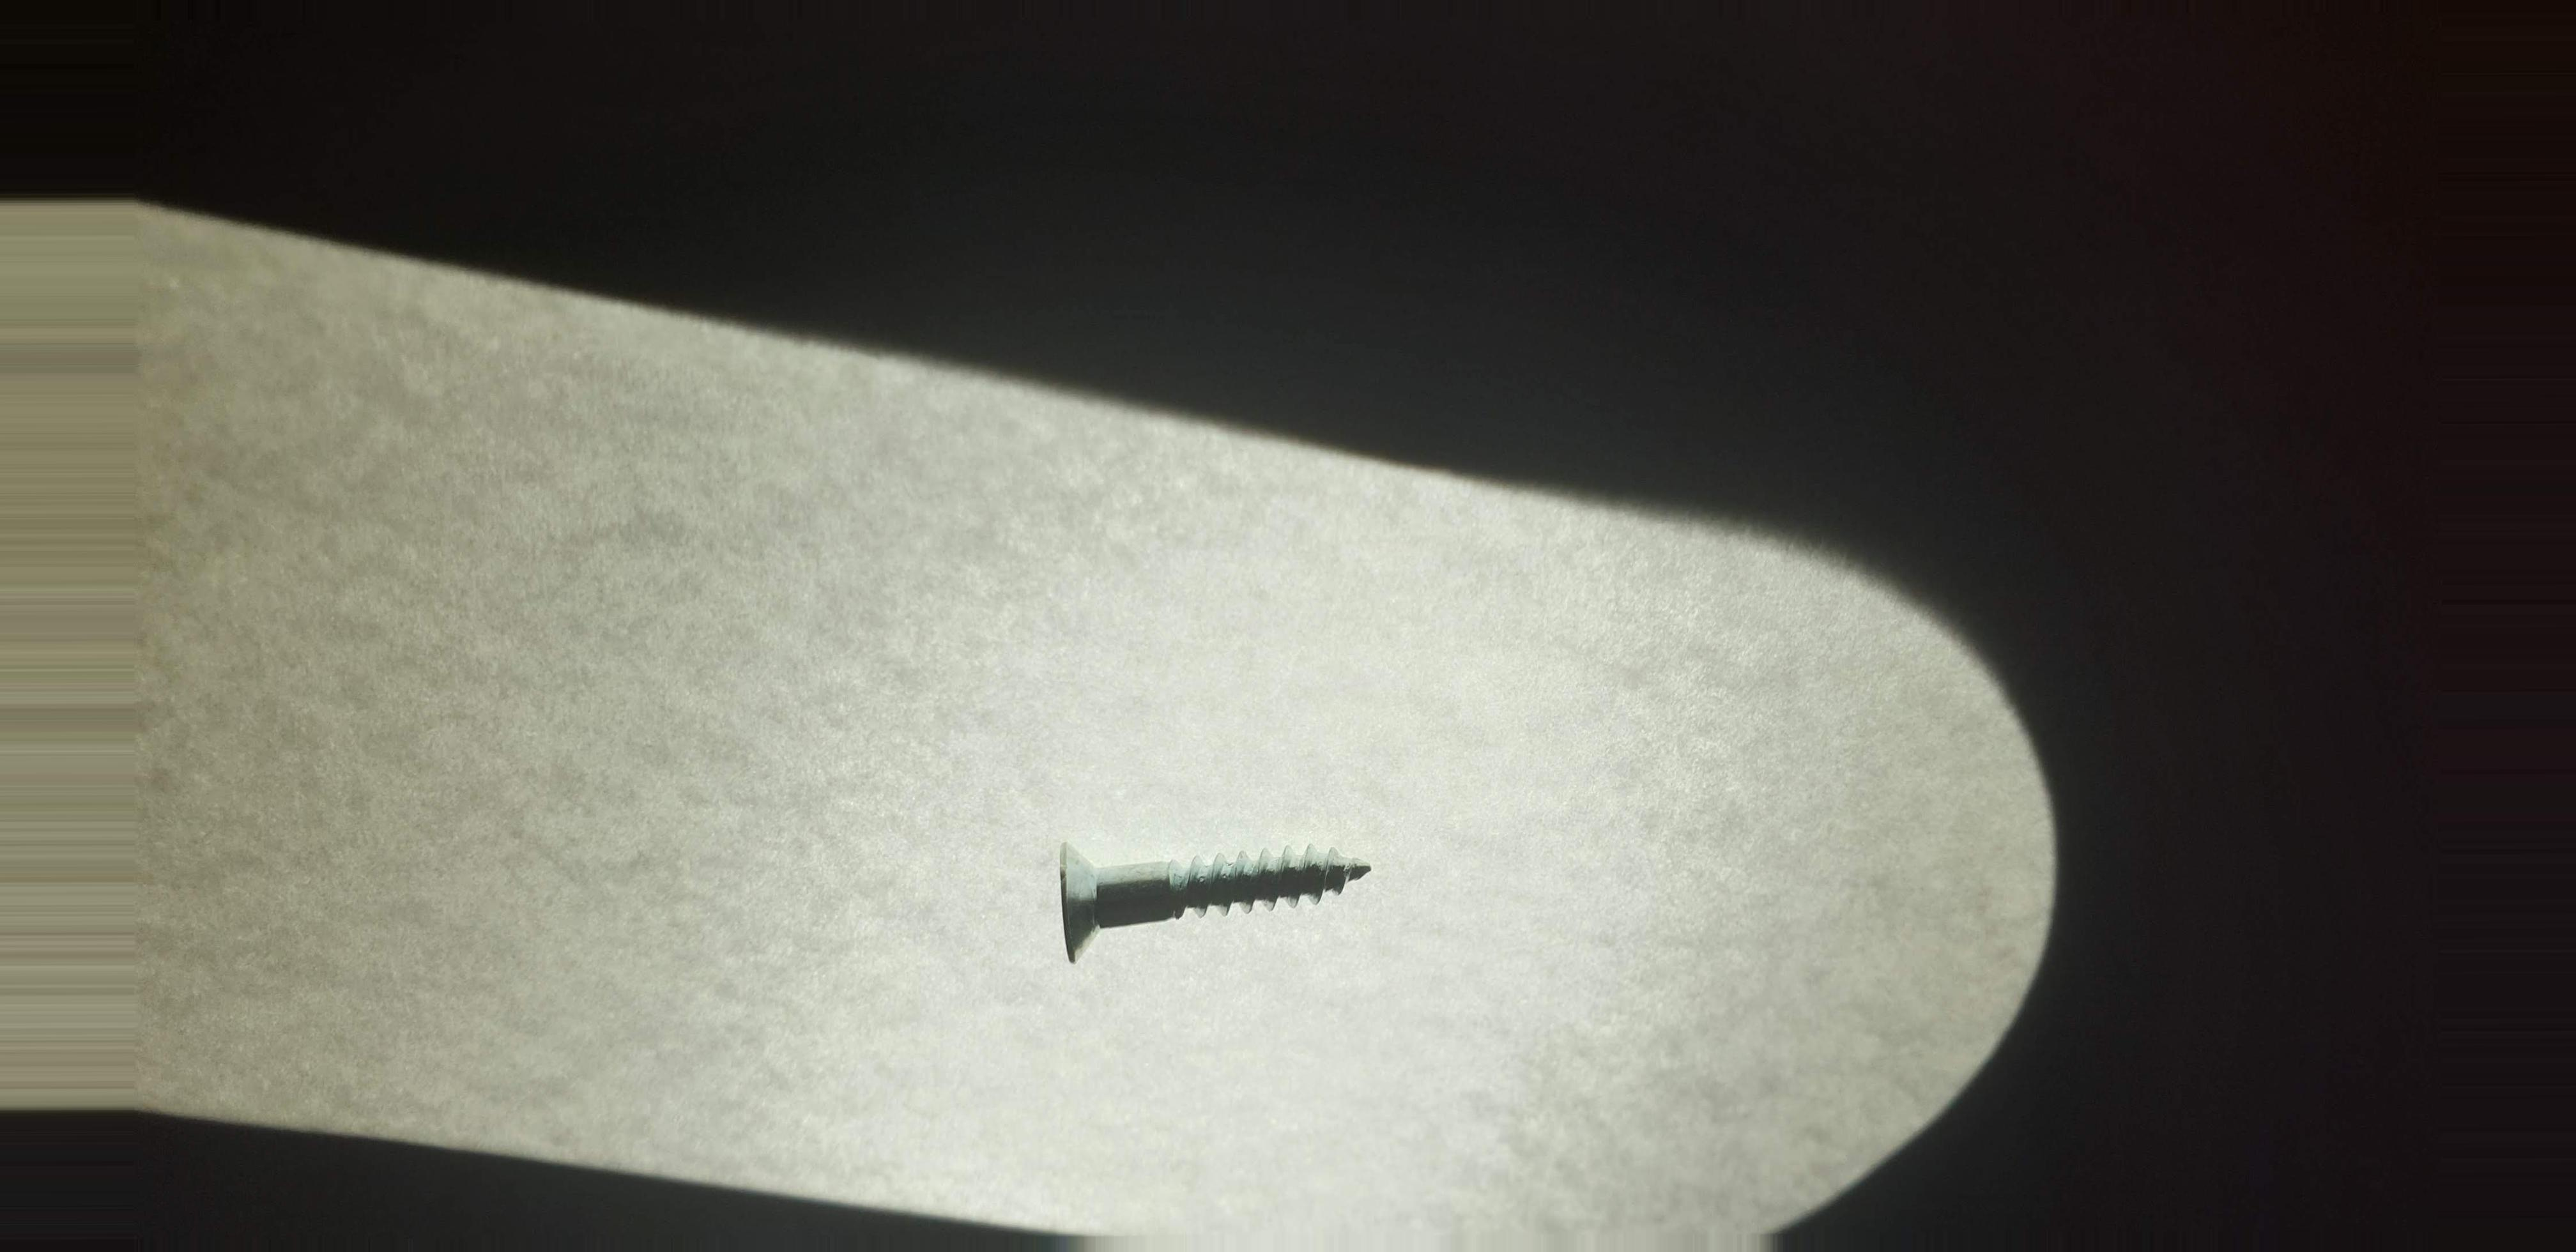S005: (994, 772, 1442, 989)
